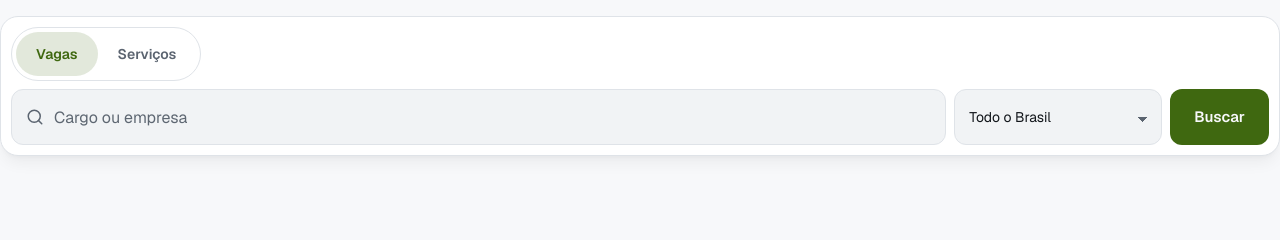
Test: BuscaDoHero, estado e cidade › voltar para 'Todo o Brasil' some com a cidade
Select "Mato Grosso" in the dropdown named "Estado". click: (1058, 117)
box: [954,89,1162,145]
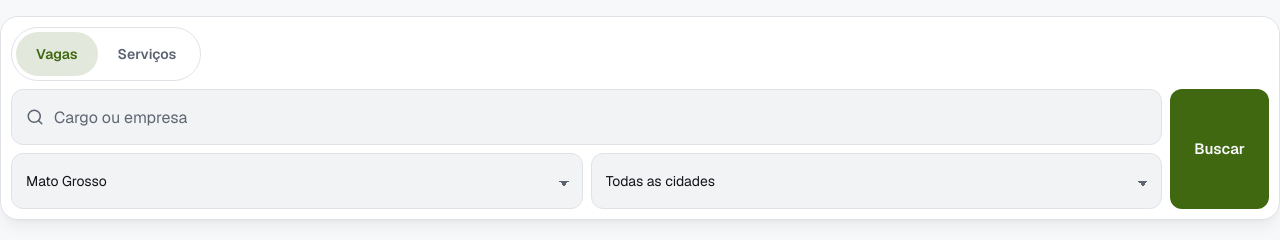
Result: the dropdown named "Cidade" is shown at [591,153,1162,209]
Select "Todo o Brasil" in the dropdown named "Estado". click: (297, 181)
box: [11,153,583,209]
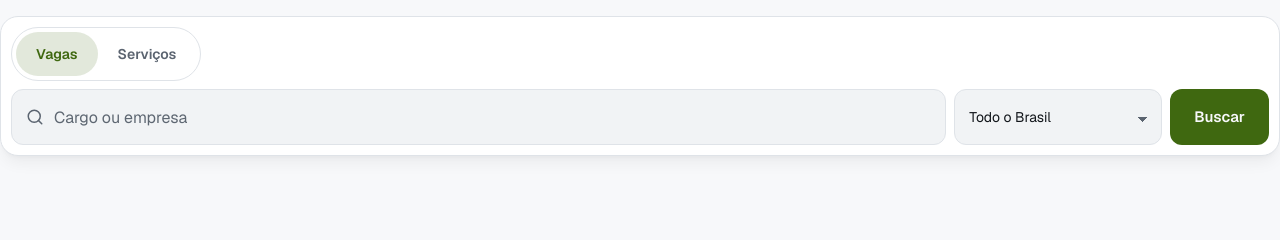
Result: the dropdown labelled "Cidade" is gone
